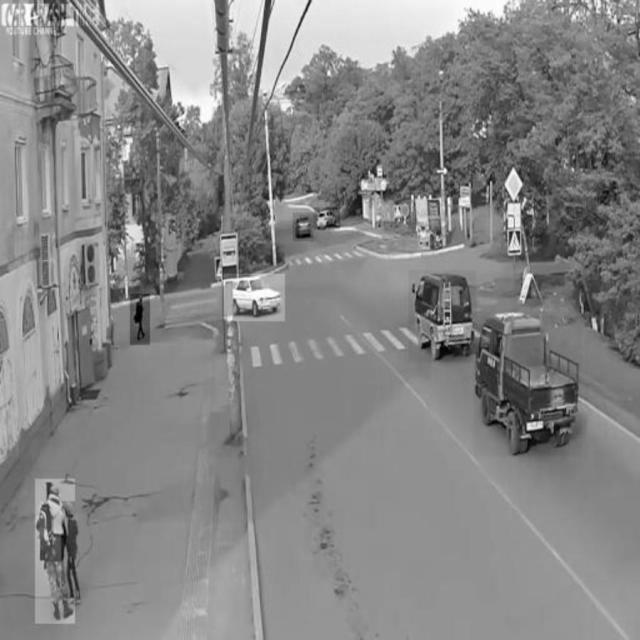person: (35, 479, 76, 623), (61, 501, 85, 599), (130, 294, 150, 345)
vehicle: (474, 316, 582, 456), (409, 270, 476, 362), (224, 274, 285, 321), (314, 208, 340, 230), (293, 213, 313, 241)
